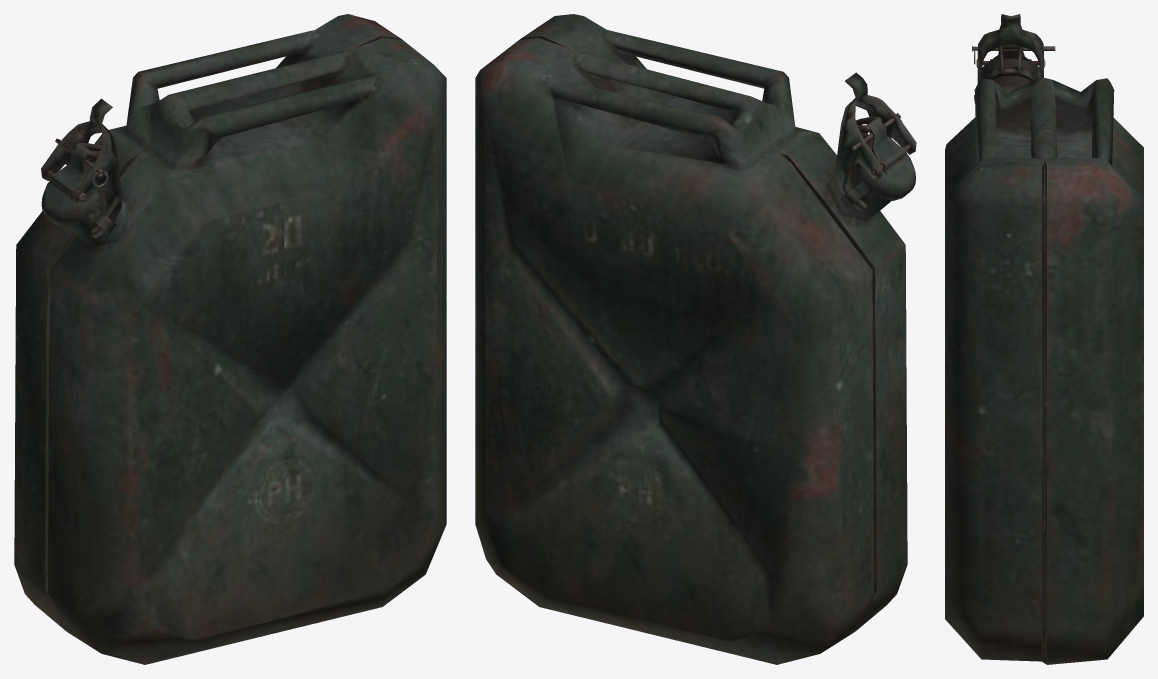
3 renders of one model, left to right at view 1: azimuth 30°, elevation 25°; view 2: azimuth 150°, elevation 25°; view 3: azimuth 270°, elevation 25°, orthographic. The views are drawn at different scales.
Visible parts, largest first — view 1: metal_jerrycan_green_body, metal_jerrycan_green_latch, metal_jerrycan_green_cap; view 2: metal_jerrycan_green_body, metal_jerrycan_green_latch, metal_jerrycan_green_cap; view 3: metal_jerrycan_green_body, metal_jerrycan_green_latch, metal_jerrycan_green_cap, metal_jerrycan_green_fastener.
Boxes of the visible parts, left/top/right/bottom form: metal_jerrycan_green_body: left=14, top=14, right=446, bottom=664; metal_jerrycan_green_latch: left=41, top=98, right=122, bottom=238; metal_jerrycan_green_cap: left=41, top=145, right=101, bottom=226; metal_jerrycan_green_body: left=475, top=14, right=907, bottom=664; metal_jerrycan_green_latch: left=834, top=72, right=916, bottom=211; metal_jerrycan_green_cap: left=856, top=118, right=915, bottom=200; metal_jerrycan_green_body: left=945, top=75, right=1143, bottom=664; metal_jerrycan_green_latch: left=976, top=14, right=1045, bottom=83; metal_jerrycan_green_cap: left=980, top=44, right=1040, bottom=81; metal_jerrycan_green_fastener: left=989, top=46, right=1032, bottom=80.
Size of the model in its own units: 0.3604 by 0.4998 by 0.1709.
1 material, 1 textured.
